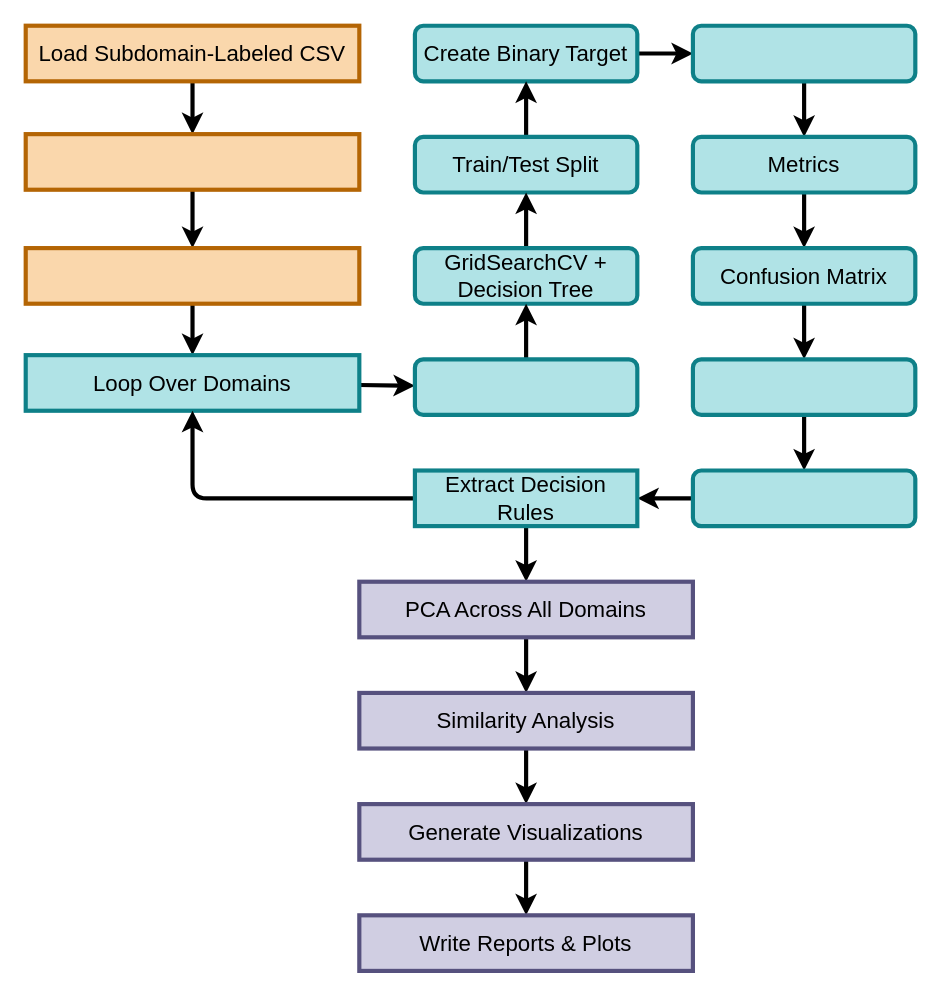
The diagram is 941 pixels wide and 997 high, and some of its shapes have lost their labels. Here are the shapes that lost their labels. From the top down, the box of each, then its label:
(690, 23, 917, 83): Predict on Test
(23, 131, 361, 191): Extract Numeric Features
(23, 245, 361, 305): Drop Missing Rows
(412, 357, 639, 416): Select Best Model
(690, 357, 917, 416): ROC Curve
(690, 468, 917, 528): Feature Importance
